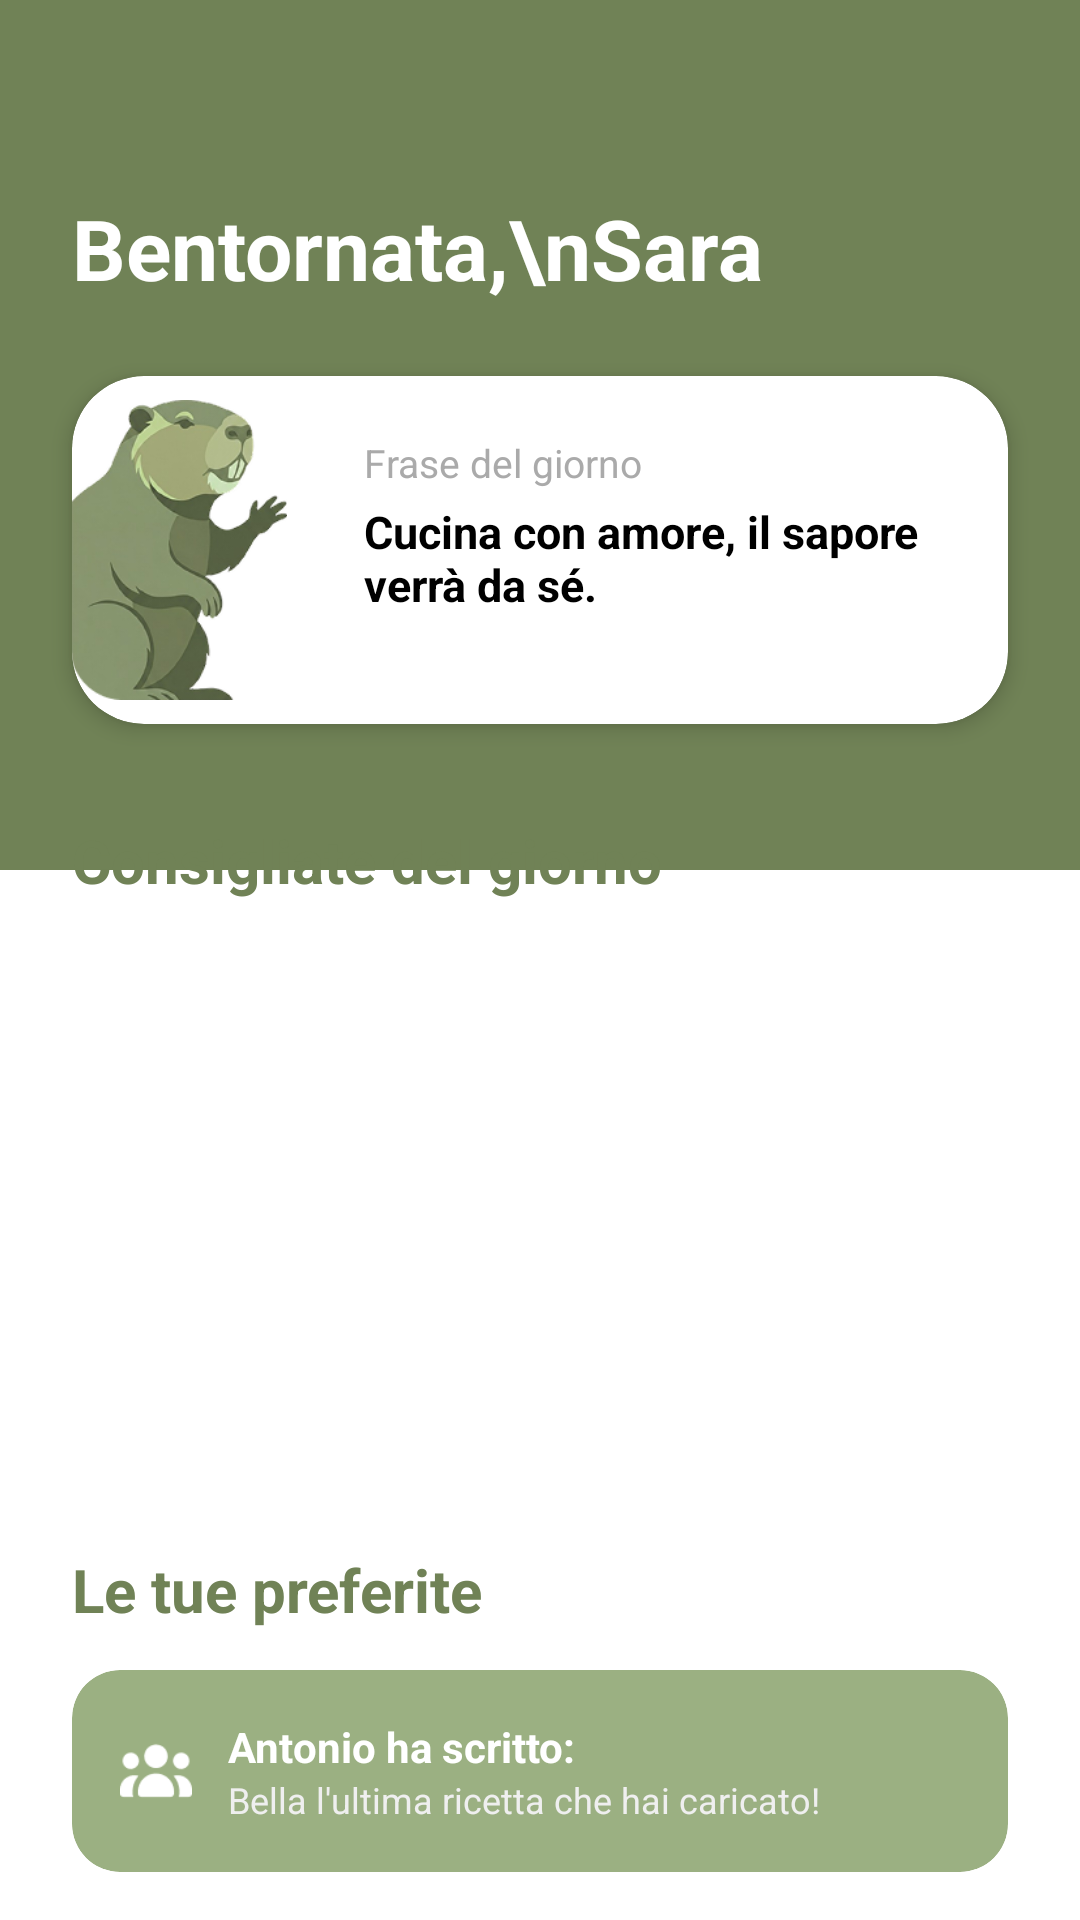

Icon bounding boxes for this 1080*1920 phone screenshot, format (x1, y1, x2, y2):
community: (120, 1744, 192, 1797)
